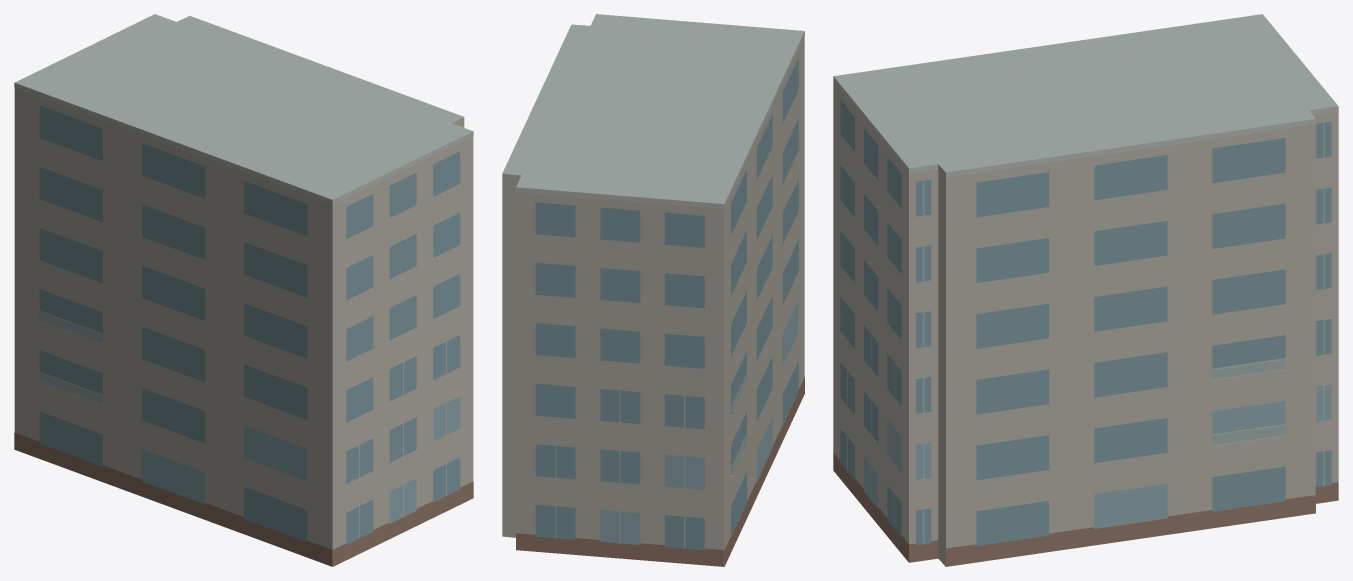
Rendered from survey-upis-32714286.glb.
3 views of the same model, side by side, from view 1: azimuth 30°, elevation 25°; view 2: azimuth 150°, elevation 25°; view 3: azimuth 270°, elevation 25° (orthographic). The views are drawn at different scales.
Parts seen in each view (by area): view 1: survey-upis-32714286.tmp; view 2: survey-upis-32714286.tmp; view 3: survey-upis-32714286.tmp.
Boxes of the visible parts, bbox=[...] form: survey-upis-32714286.tmp: bbox=[14, 14, 473, 566]; survey-upis-32714286.tmp: bbox=[502, 14, 804, 566]; survey-upis-32714286.tmp: bbox=[833, 14, 1338, 566].
Size of the model in its own units: 15.78 by 18.3 by 21.25.
